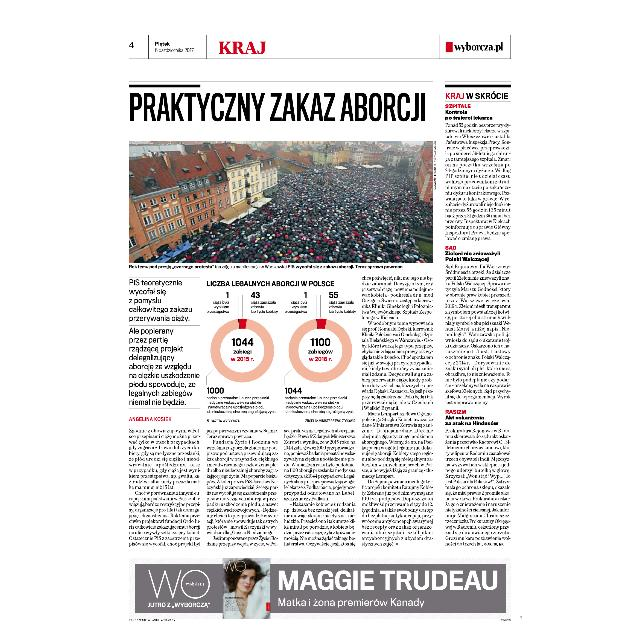article: (128, 84, 434, 548), (443, 84, 512, 548)
